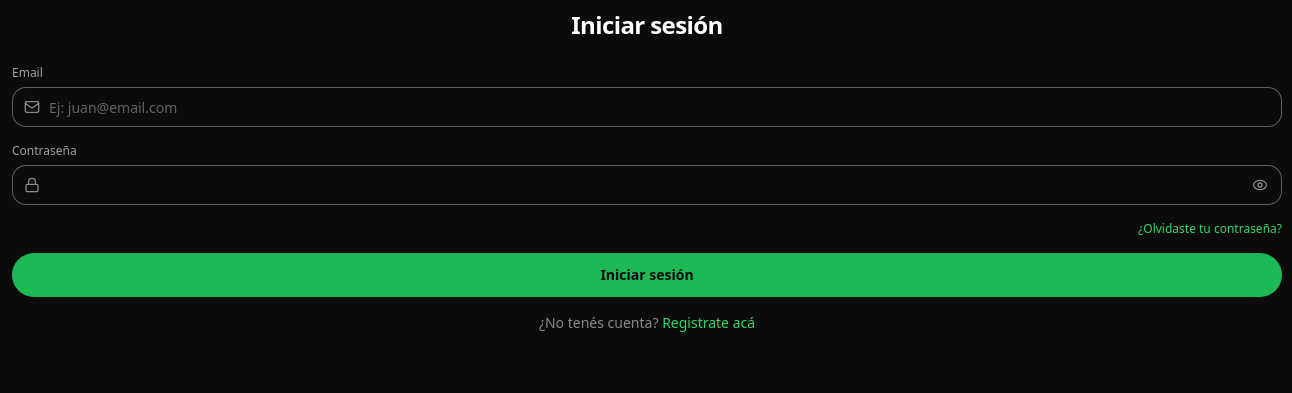
it: LoginForm › shows validation error for empty email on submit
Click the button "Iniciar sesión".
click(647, 275)  # box x1=12 y1=253 x2=1282 y2=297
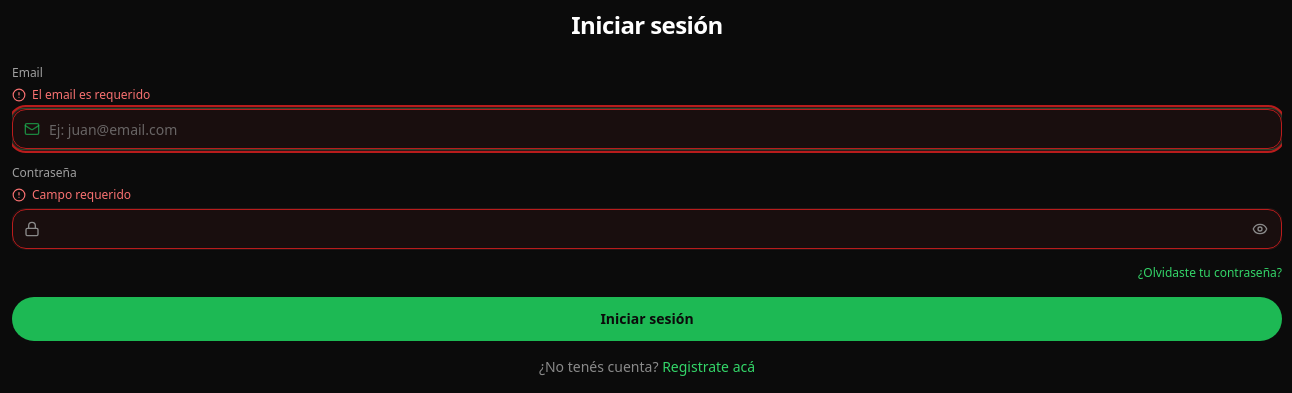
Check: the text "El email es requerido" is shown, box x1=12 y1=86 x2=150 y2=103
